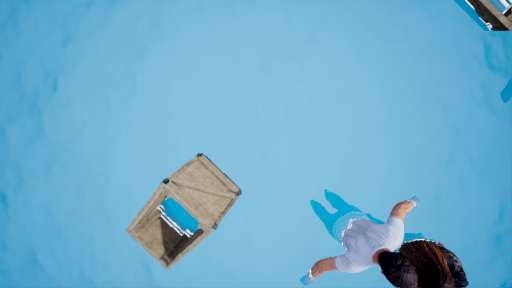person: (295, 181, 474, 288)
